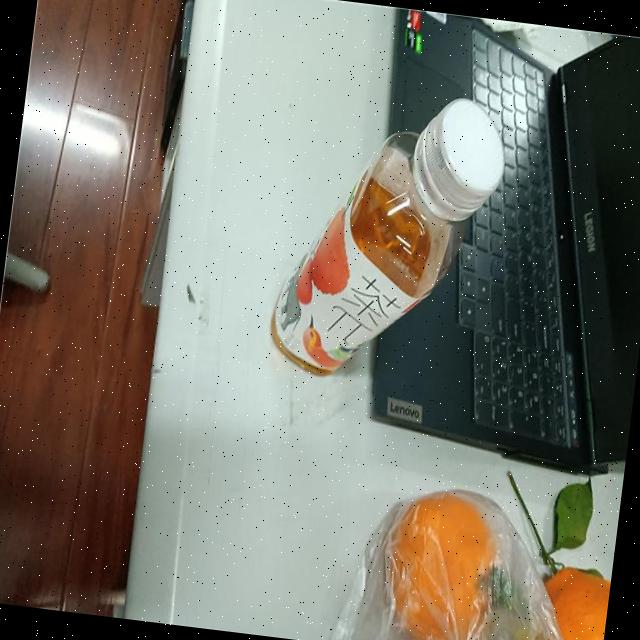orange-peel: (373, 482, 506, 640)
